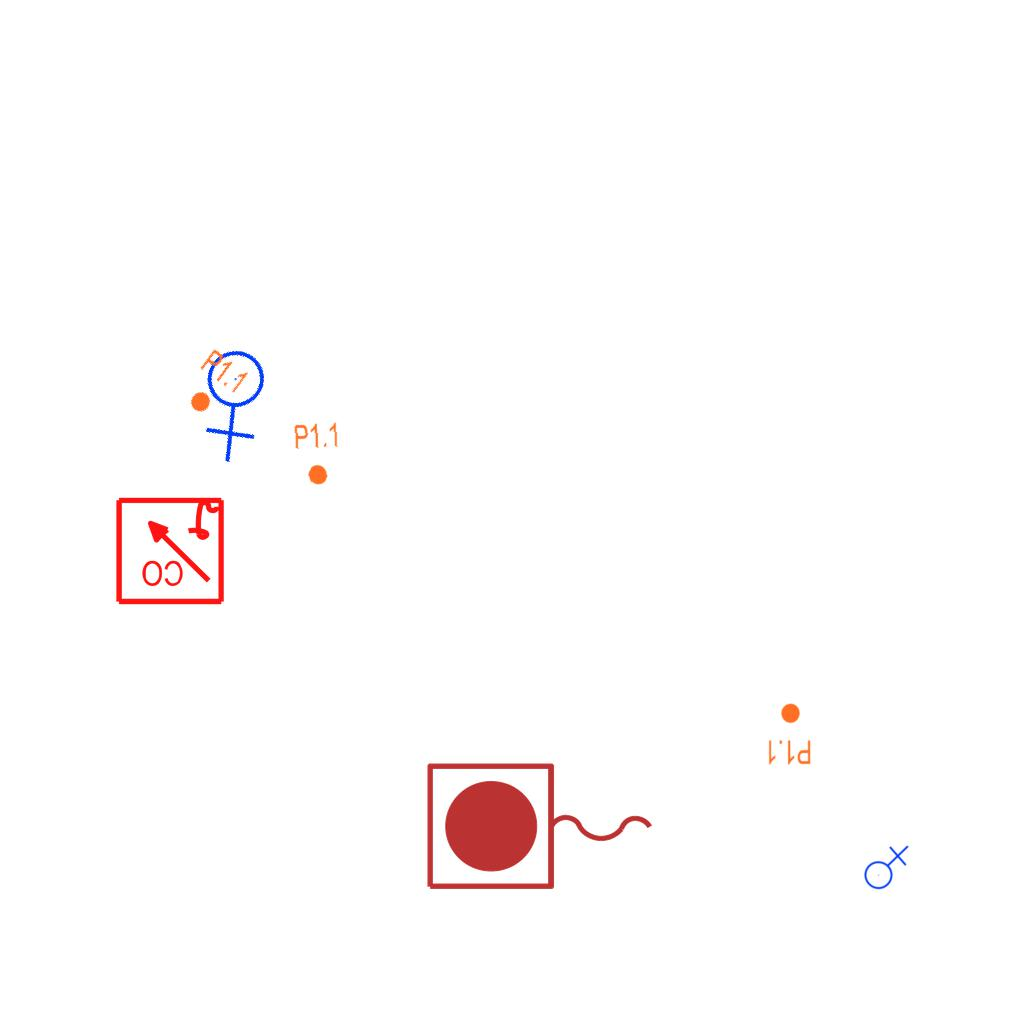Downlight_LED_Einbauleuchten_Flur: (176, 346, 252, 426), (292, 420, 344, 488), (766, 702, 812, 766)
Elektroanschluss_allgemein_230V_Geraeteanschlussdose_230V: (169, 332, 306, 468), (860, 843, 909, 890)
ROA_Rauchmelder_optisch_mit_Signalgeber_(Sockelsirene): (113, 493, 226, 606)
Zugtaster: (419, 756, 663, 900)
